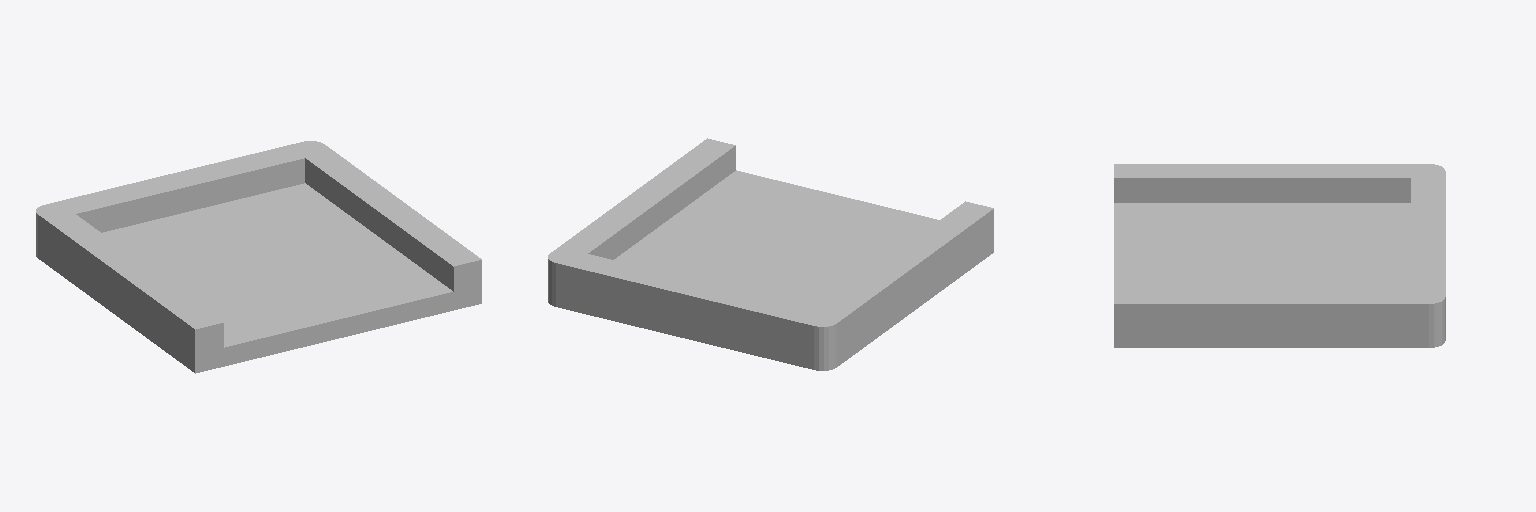
Rendered from UVED_start12.obj.
3 renders of one model, left to right at view 1: azimuth 30°, elevation 25°; view 2: azimuth 150°, elevation 25°; view 3: azimuth 270°, elevation 25°, orthographic.
Parts seen in each view (by area): view 1: pCube3 group1; view 2: pCube3 group1; view 3: pCube3 group1.
Part boxes in pixels (left/top/right/bottom): pCube3 group1: left=36, top=141, right=481, bottom=373; pCube3 group1: left=548, top=138, right=993, bottom=370; pCube3 group1: left=1114, top=164, right=1445, bottom=347.
Bounding box in the file's own units: 3 × 0.44 × 3.